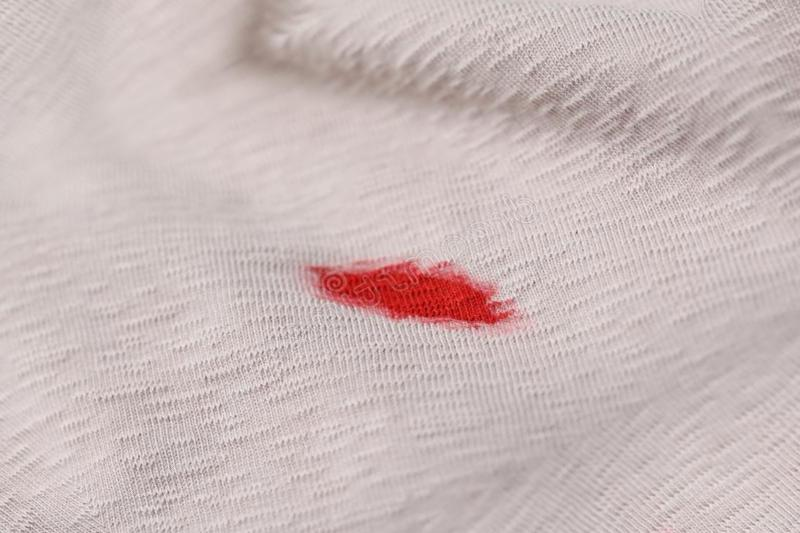stain: (296, 253, 528, 334)
